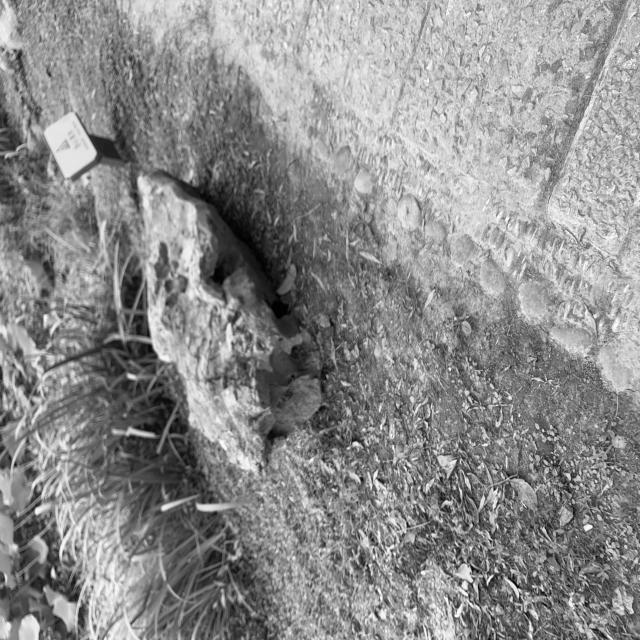Stone: (138, 170, 322, 472)
